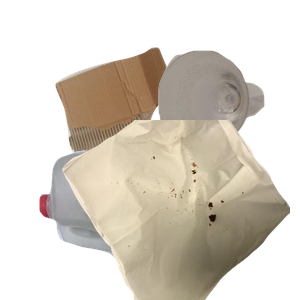cardboard: (53, 45, 221, 204)
glass: (156, 48, 300, 189)
plastic: (37, 147, 254, 300)
trash: (60, 120, 300, 300)
